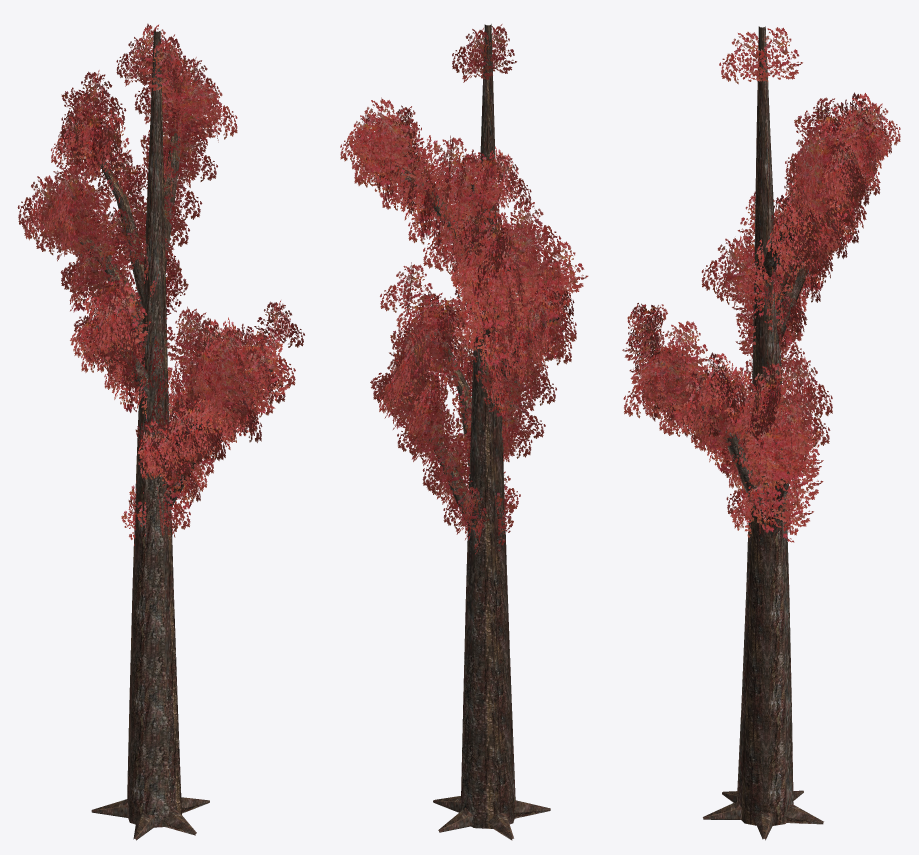
Rendered from tree_3d_02_red_lod1.glb.
The picture shows the model from 3 angles, left to right: view 1: azimuth 30°, elevation 25°; view 2: azimuth 150°, elevation 25°; view 3: azimuth 270°, elevation 25°; orthographic projection.
Visible parts, largest first — view 1: foliage_cards, wood_geometry; view 2: foliage_cards, wood_geometry; view 3: foliage_cards, wood_geometry.
Part boxes in pixels (<box>): foliage_cards: <box>17,23,304,545</box>; wood_geometry: <box>75,30,272,840</box>; foliage_cards: <box>340,24,588,554</box>; wood_geometry: <box>385,24,559,840</box>; foliage_cards: <box>622,27,900,542</box>; wood_geometry: <box>663,26,850,840</box>.
Size of the model in its own units: 3.82 by 12.59 by 4.1.
2 materials, 2 textured.
